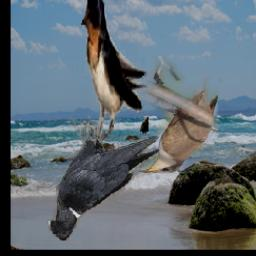Crow: (47, 116, 163, 241)
Cuckoo: (138, 57, 217, 174)
Swallow: (81, 0, 149, 148)
